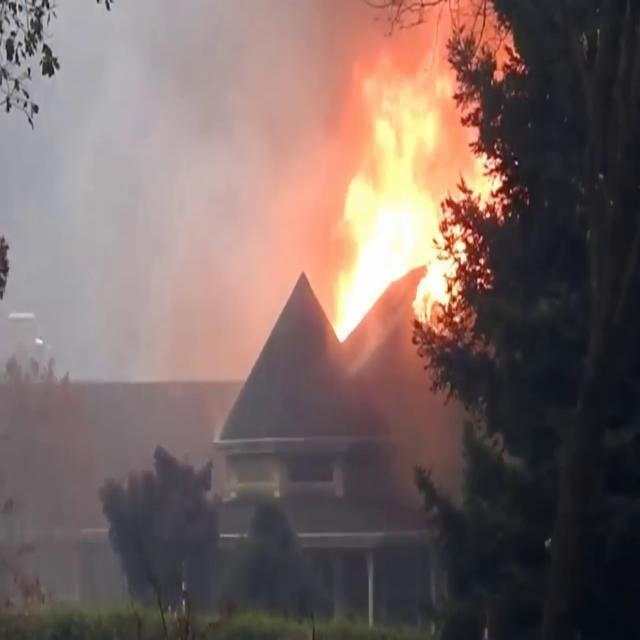Fire: (334, 0, 526, 343)
